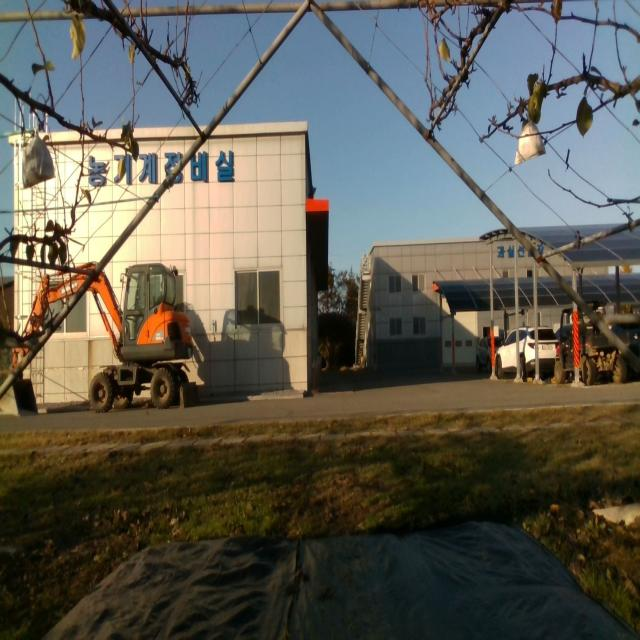pearbags: (21, 129, 55, 189), (514, 122, 547, 169)
